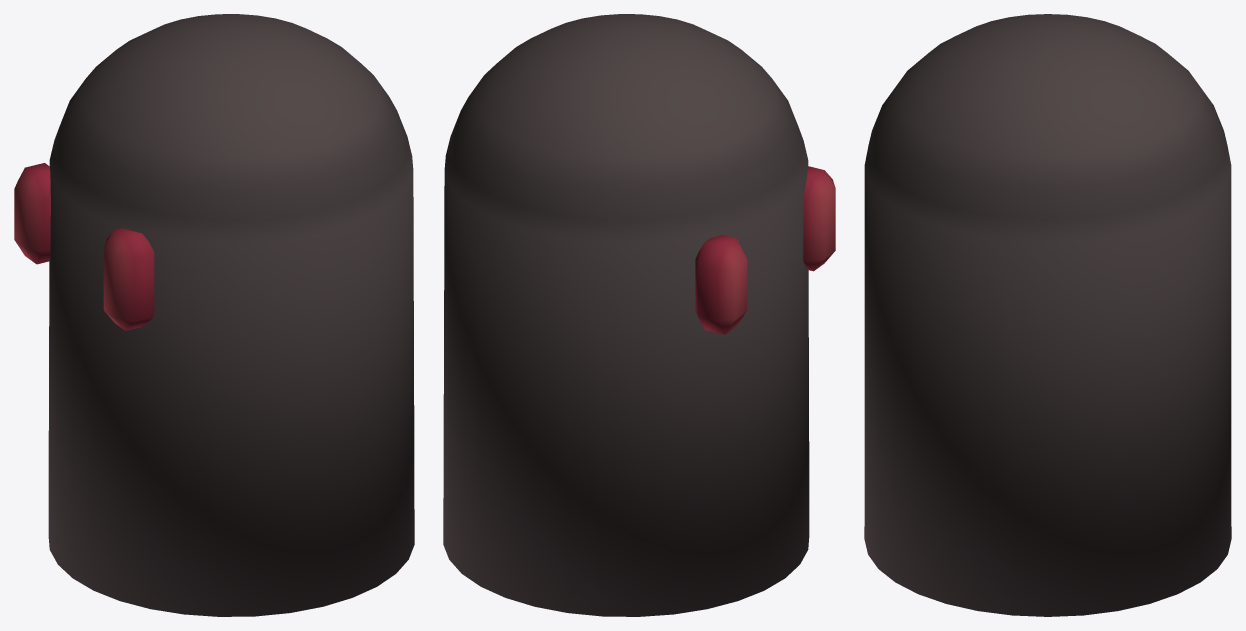
Rendered from MoleFixed.fbx.
The picture shows the model from 3 angles, left to right: view 1: azimuth 30°, elevation 25°; view 2: azimuth 150°, elevation 25°; view 3: azimuth 270°, elevation 25°; orthographic projection.
Parts seen in each view (by area): view 1: Cylinder; view 2: Cylinder; view 3: Cylinder.
Boxes of the visible parts, x1=… form: Cylinder: x1=14, y1=14, x2=414, y2=616; Cylinder: x1=443, y1=14, x2=835, y2=616; Cylinder: x1=864, y1=14, x2=1231, y2=616.
Size of the model in its own units: 120 by 181 by 119.
